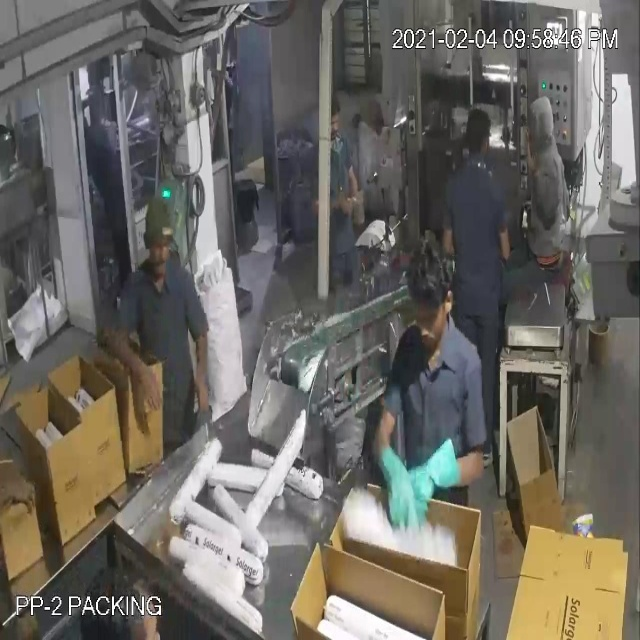Guantes: (406, 432, 472, 537), (376, 419, 415, 538)
Sin_guantes: (106, 315, 167, 427), (182, 311, 220, 432), (1, 459, 38, 535)
